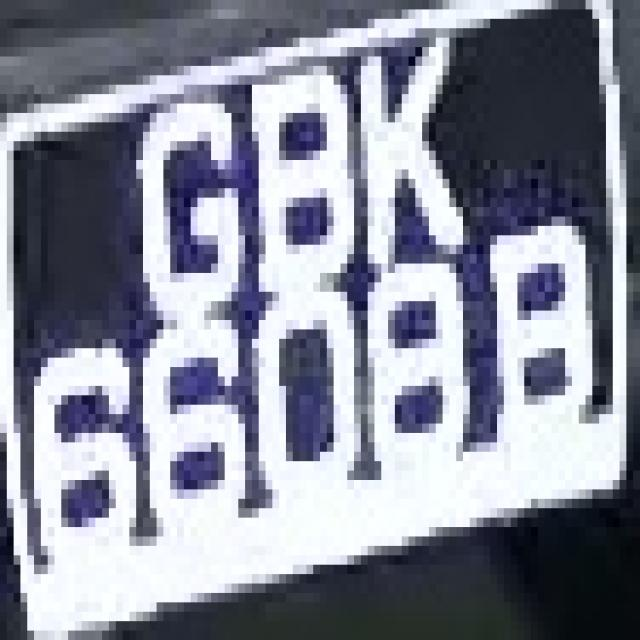0: (232, 273, 368, 499)
6: (129, 311, 245, 574), (20, 339, 143, 583)
8: (361, 245, 490, 480)
B: (225, 37, 361, 310), (470, 198, 592, 470)
G: (122, 75, 252, 339)
K: (340, 19, 463, 263)
